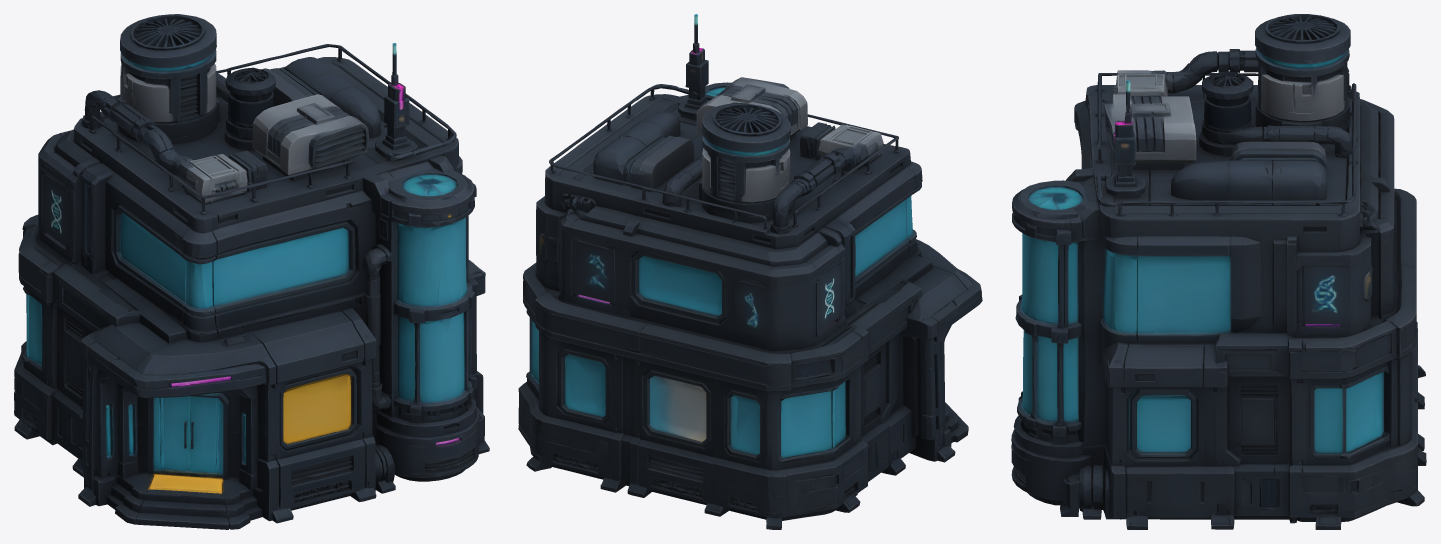
File: source.glb
3 renders of one model, left to right at view 1: azimuth 30°, elevation 25°; view 2: azimuth 150°, elevation 25°; view 3: azimuth 270°, elevation 25°, orthographic. The views are drawn at different scales.
Parts seen in each view (by area): view 1: model; view 2: model; view 3: model.
Part boxes in pixels (x1,y1,x2,y2): model: (14, 14, 489, 529); model: (518, 14, 982, 529); model: (1011, 14, 1426, 529).
Size of the model in its own units: 1.89 by 1.89 by 1.75.
Materials: 1 (1 with a texture image).
